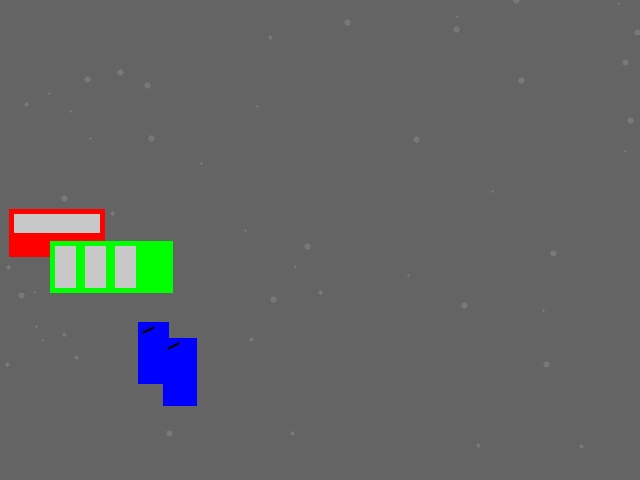bus: (50, 241, 172, 292)
car: (9, 209, 104, 256)
motorcycle: (163, 338, 196, 405), (138, 322, 168, 383)
